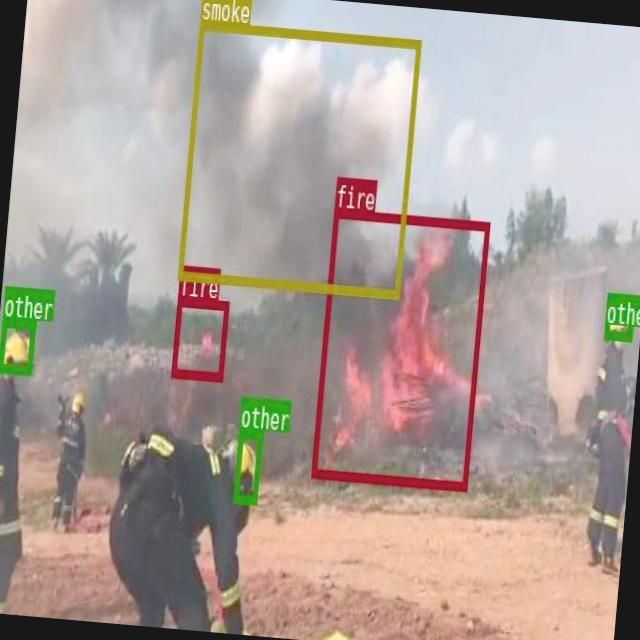fire: (310, 206, 490, 488), (170, 295, 228, 379)
smoke: (176, 19, 420, 298)
